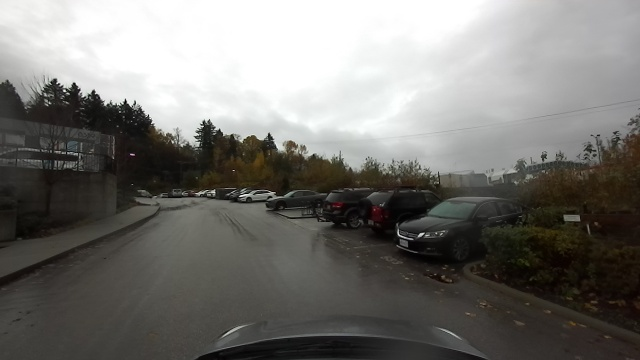car: (394, 186, 480, 263), (355, 188, 404, 238), (316, 186, 363, 226), (261, 185, 323, 214), (238, 189, 275, 204), (138, 188, 153, 199), (168, 189, 183, 198), (205, 190, 214, 199)
